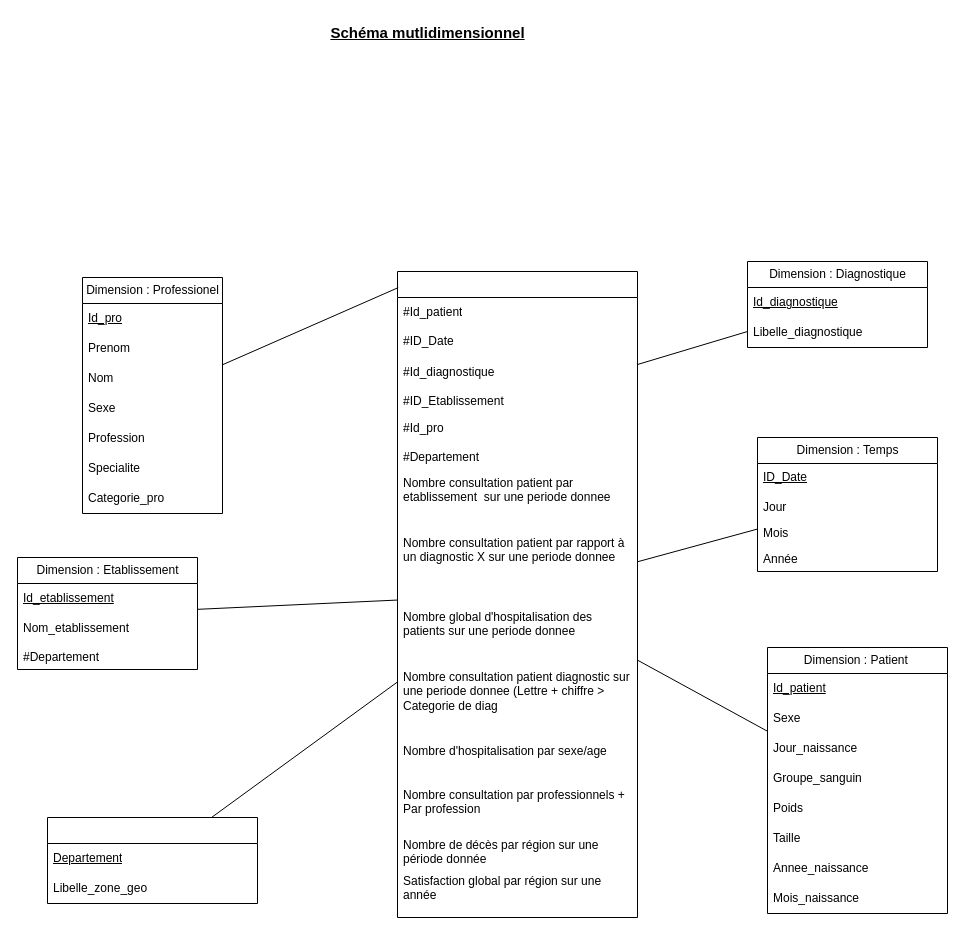
Some shapes in this 965 by 937 pixel diagram are drawn without their labels. Each missing label, with the box of its shape:
Dimension : Zone Geographique: (46, 816, 258, 904)
Fait : Statistiques: (396, 270, 638, 918)
